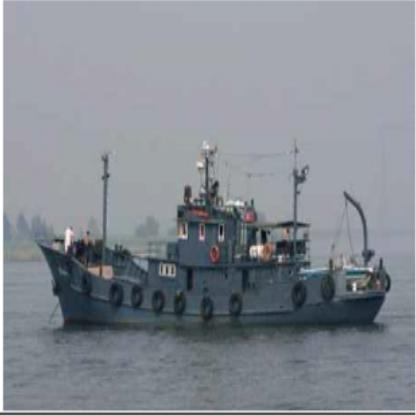fish-b: (32, 126, 399, 338)
